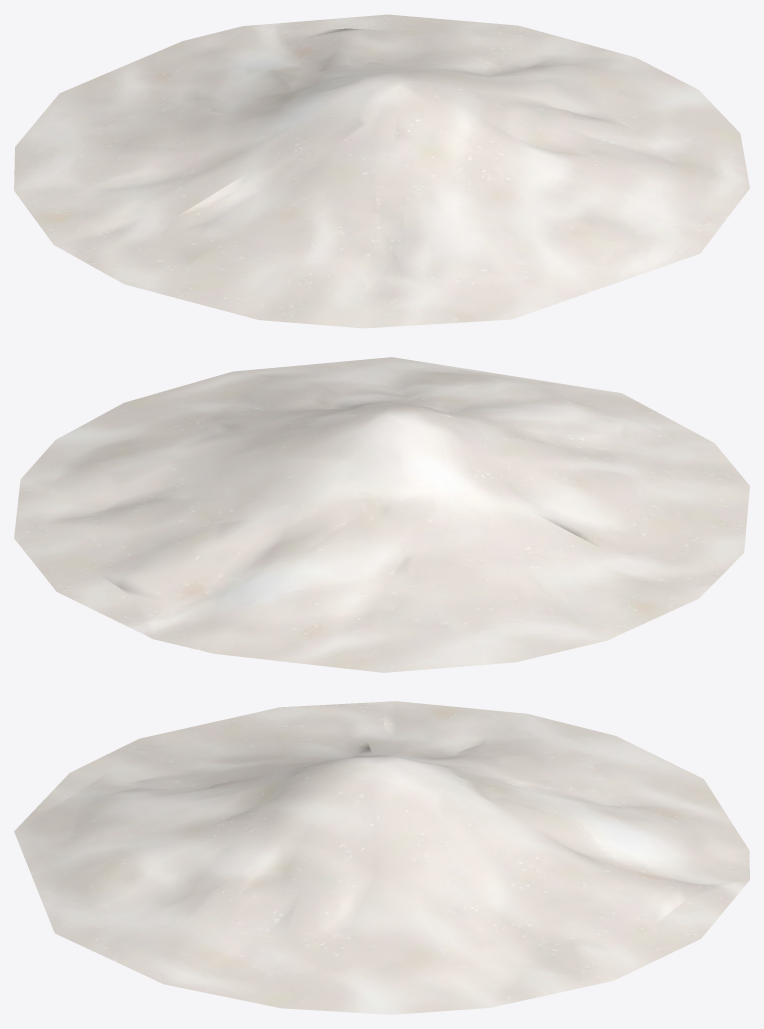
Rendered from cream_pile_1.glb.
3 renders of one model, top to bottom at view 1: azimuth 30°, elevation 25°; view 2: azimuth 150°, elevation 25°; view 3: azimuth 270°, elevation 25°, orthographic.
Visible parts, largest first — view 1: cream_pile_LOD0; view 2: cream_pile_LOD0; view 3: cream_pile_LOD0.
Boxes of the visible parts, x1=… form: cream_pile_LOD0: x1=14, y1=14, x2=749, y2=328; cream_pile_LOD0: x1=14, y1=357, x2=749, y2=672; cream_pile_LOD0: x1=14, y1=701, x2=749, y2=1014.
Bounding box in the file's own units: 3.35 × 0.4655 × 3.33.
1 material, 1 textured.
